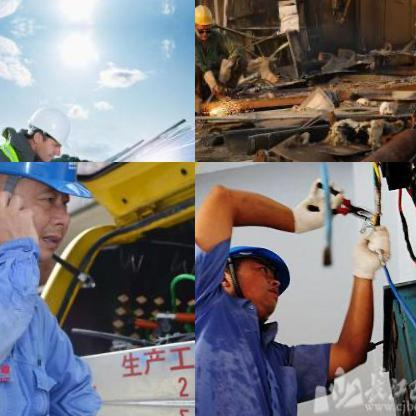Helmet: (0, 162, 92, 258), (216, 218, 294, 314), (20, 101, 74, 161), (195, 3, 215, 38)
